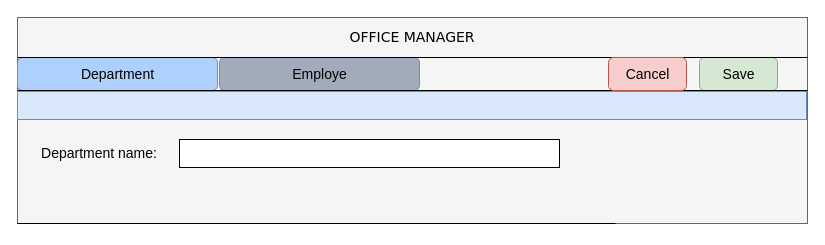
Some shapes in this 825 by 245 pixel diagram are drawn without their labels. The shapes that lost their labels are listed below. From the top down, each one's box as (x1, y1, x2, y2) in pixels, then its label:
(16, 90, 806, 120): Edit department
(178, 138, 560, 168): New name
